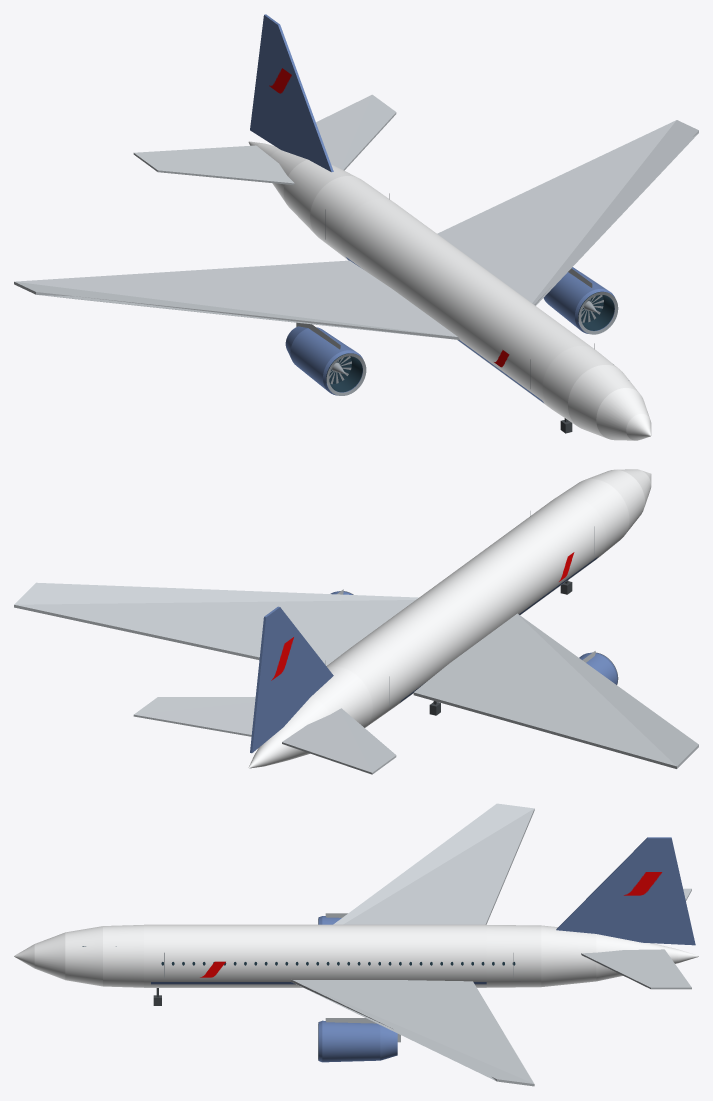
Rendered from b787-AFR-v3.gltf.
3 views of the same model, one above another, from view 1: azimuth 30°, elevation 25°; view 2: azimuth 150°, elevation 25°; view 3: azimuth 270°, elevation 25° (orthographic). The views are drawn at different scales.
Parts seen in each view (by area): view 1: object 1; view 2: object 1; view 3: object 1.
Part boxes in pixels (x1,y1,x2,y2): object 1: (14,14,698,440); object 1: (14,469,698,774); object 1: (14,803,698,1086).
Size of the model in its own units: 60 by 17.28 by 63.
Materials: 8 (1 with a texture image).
